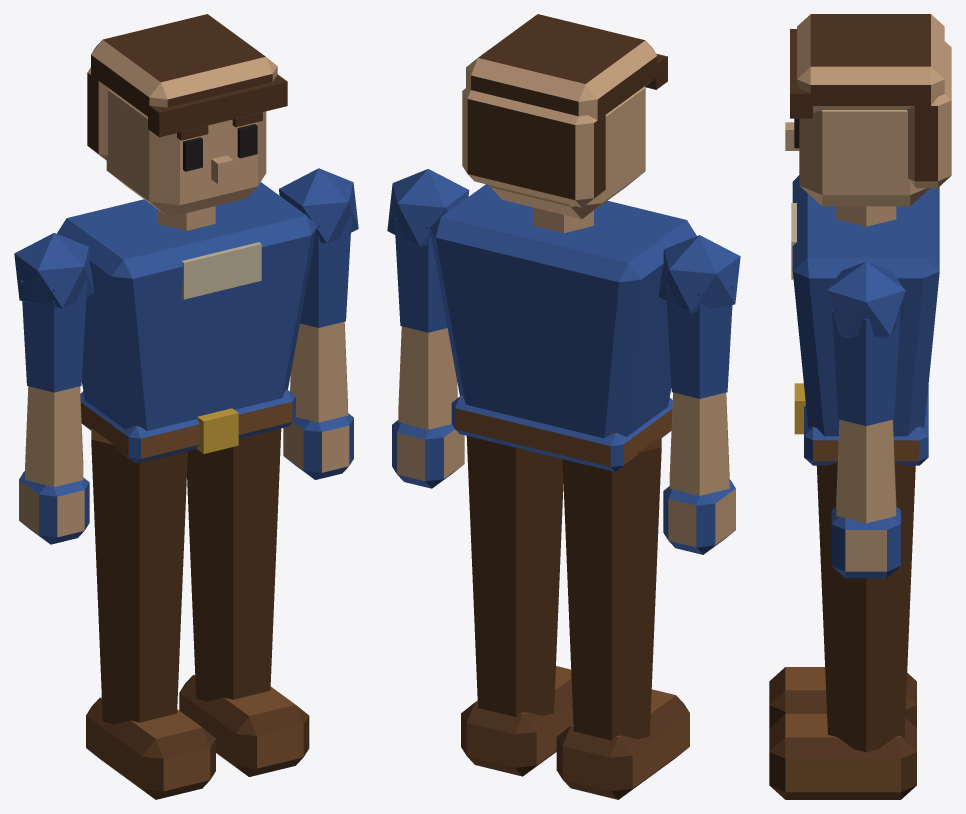
The model's file is hero.glb.
The picture shows the model from 3 angles, left to right: view 1: azimuth 30°, elevation 25°; view 2: azimuth 150°, elevation 25°; view 3: azimuth 270°, elevation 25°; orthographic projection. The views are drawn at different scales.
Visible parts, largest first — view 1: torso, leg_r, head, leg_l, arm_r, arm_l; view 2: torso, leg_r, head, leg_l, arm_r, arm_l; view 3: head, leg_l, torso, arm_l, leg_r.
Boxes of the visible parts, box(x1,y1,x2,y2) form: torso: box(57, 182, 317, 463); leg_r: box(86, 428, 215, 799); head: box(87, 14, 287, 217); leg_l: box(179, 428, 309, 776); arm_r: box(14, 233, 93, 544); arm_l: box(279, 168, 358, 479); torso: box(429, 184, 696, 471); leg_r: box(556, 435, 689, 799); head: box(462, 14, 667, 219); leg_l: box(461, 436, 573, 776); arm_r: box(658, 235, 740, 554); arm_l: box(387, 169, 469, 488); head: box(785, 14, 951, 206); leg_l: box(769, 463, 916, 799); torso: box(791, 175, 939, 465); arm_l: box(827, 261, 905, 578); leg_r: box(769, 667, 916, 727).
Bounding box in the file's own units: 0.8589 × 1.73 × 0.395.
